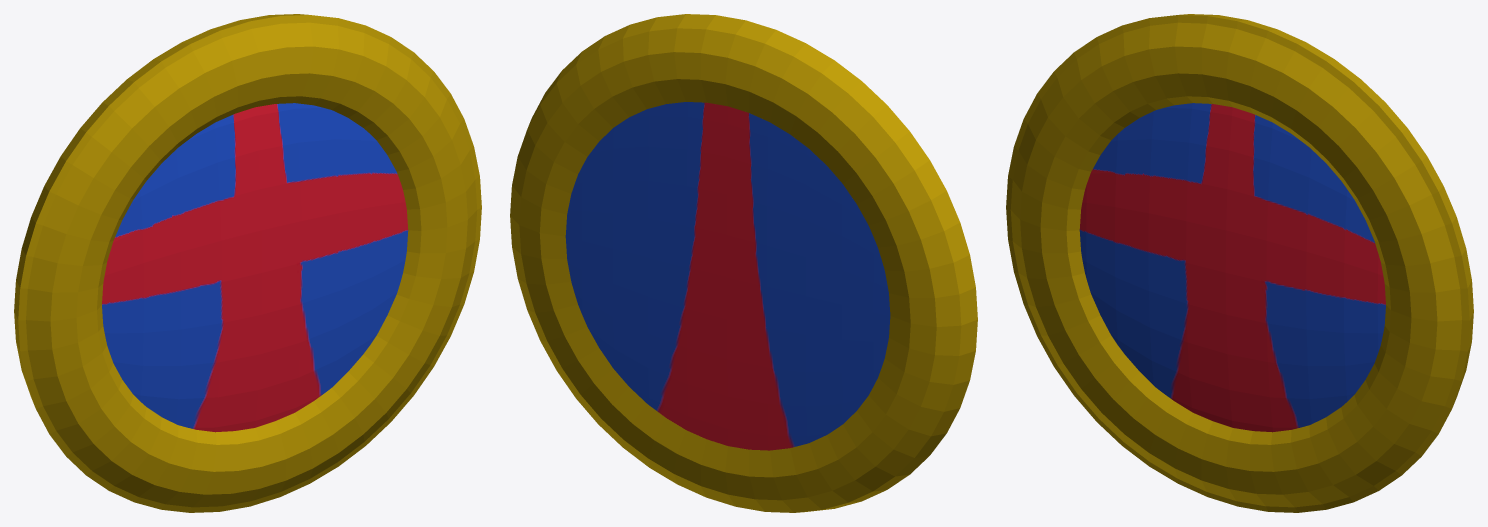
Rendered from Shild.obj.
3 views of the same model, side by side, from view 1: azimuth 30°, elevation 25°; view 2: azimuth 150°, elevation 25°; view 3: azimuth 330°, elevation 25° (orthographic).
Visible parts, largest first — view 1: トーラス; view 2: トーラス; view 3: トーラス.
Boxes of the visible parts, x1,y1,x2,y2 form: トーラス: (14,14,481,512); トーラス: (510,14,977,512); トーラス: (1006,14,1473,512).
Size of the model in its own units: 1.01 by 1.01 by 0.1246.
